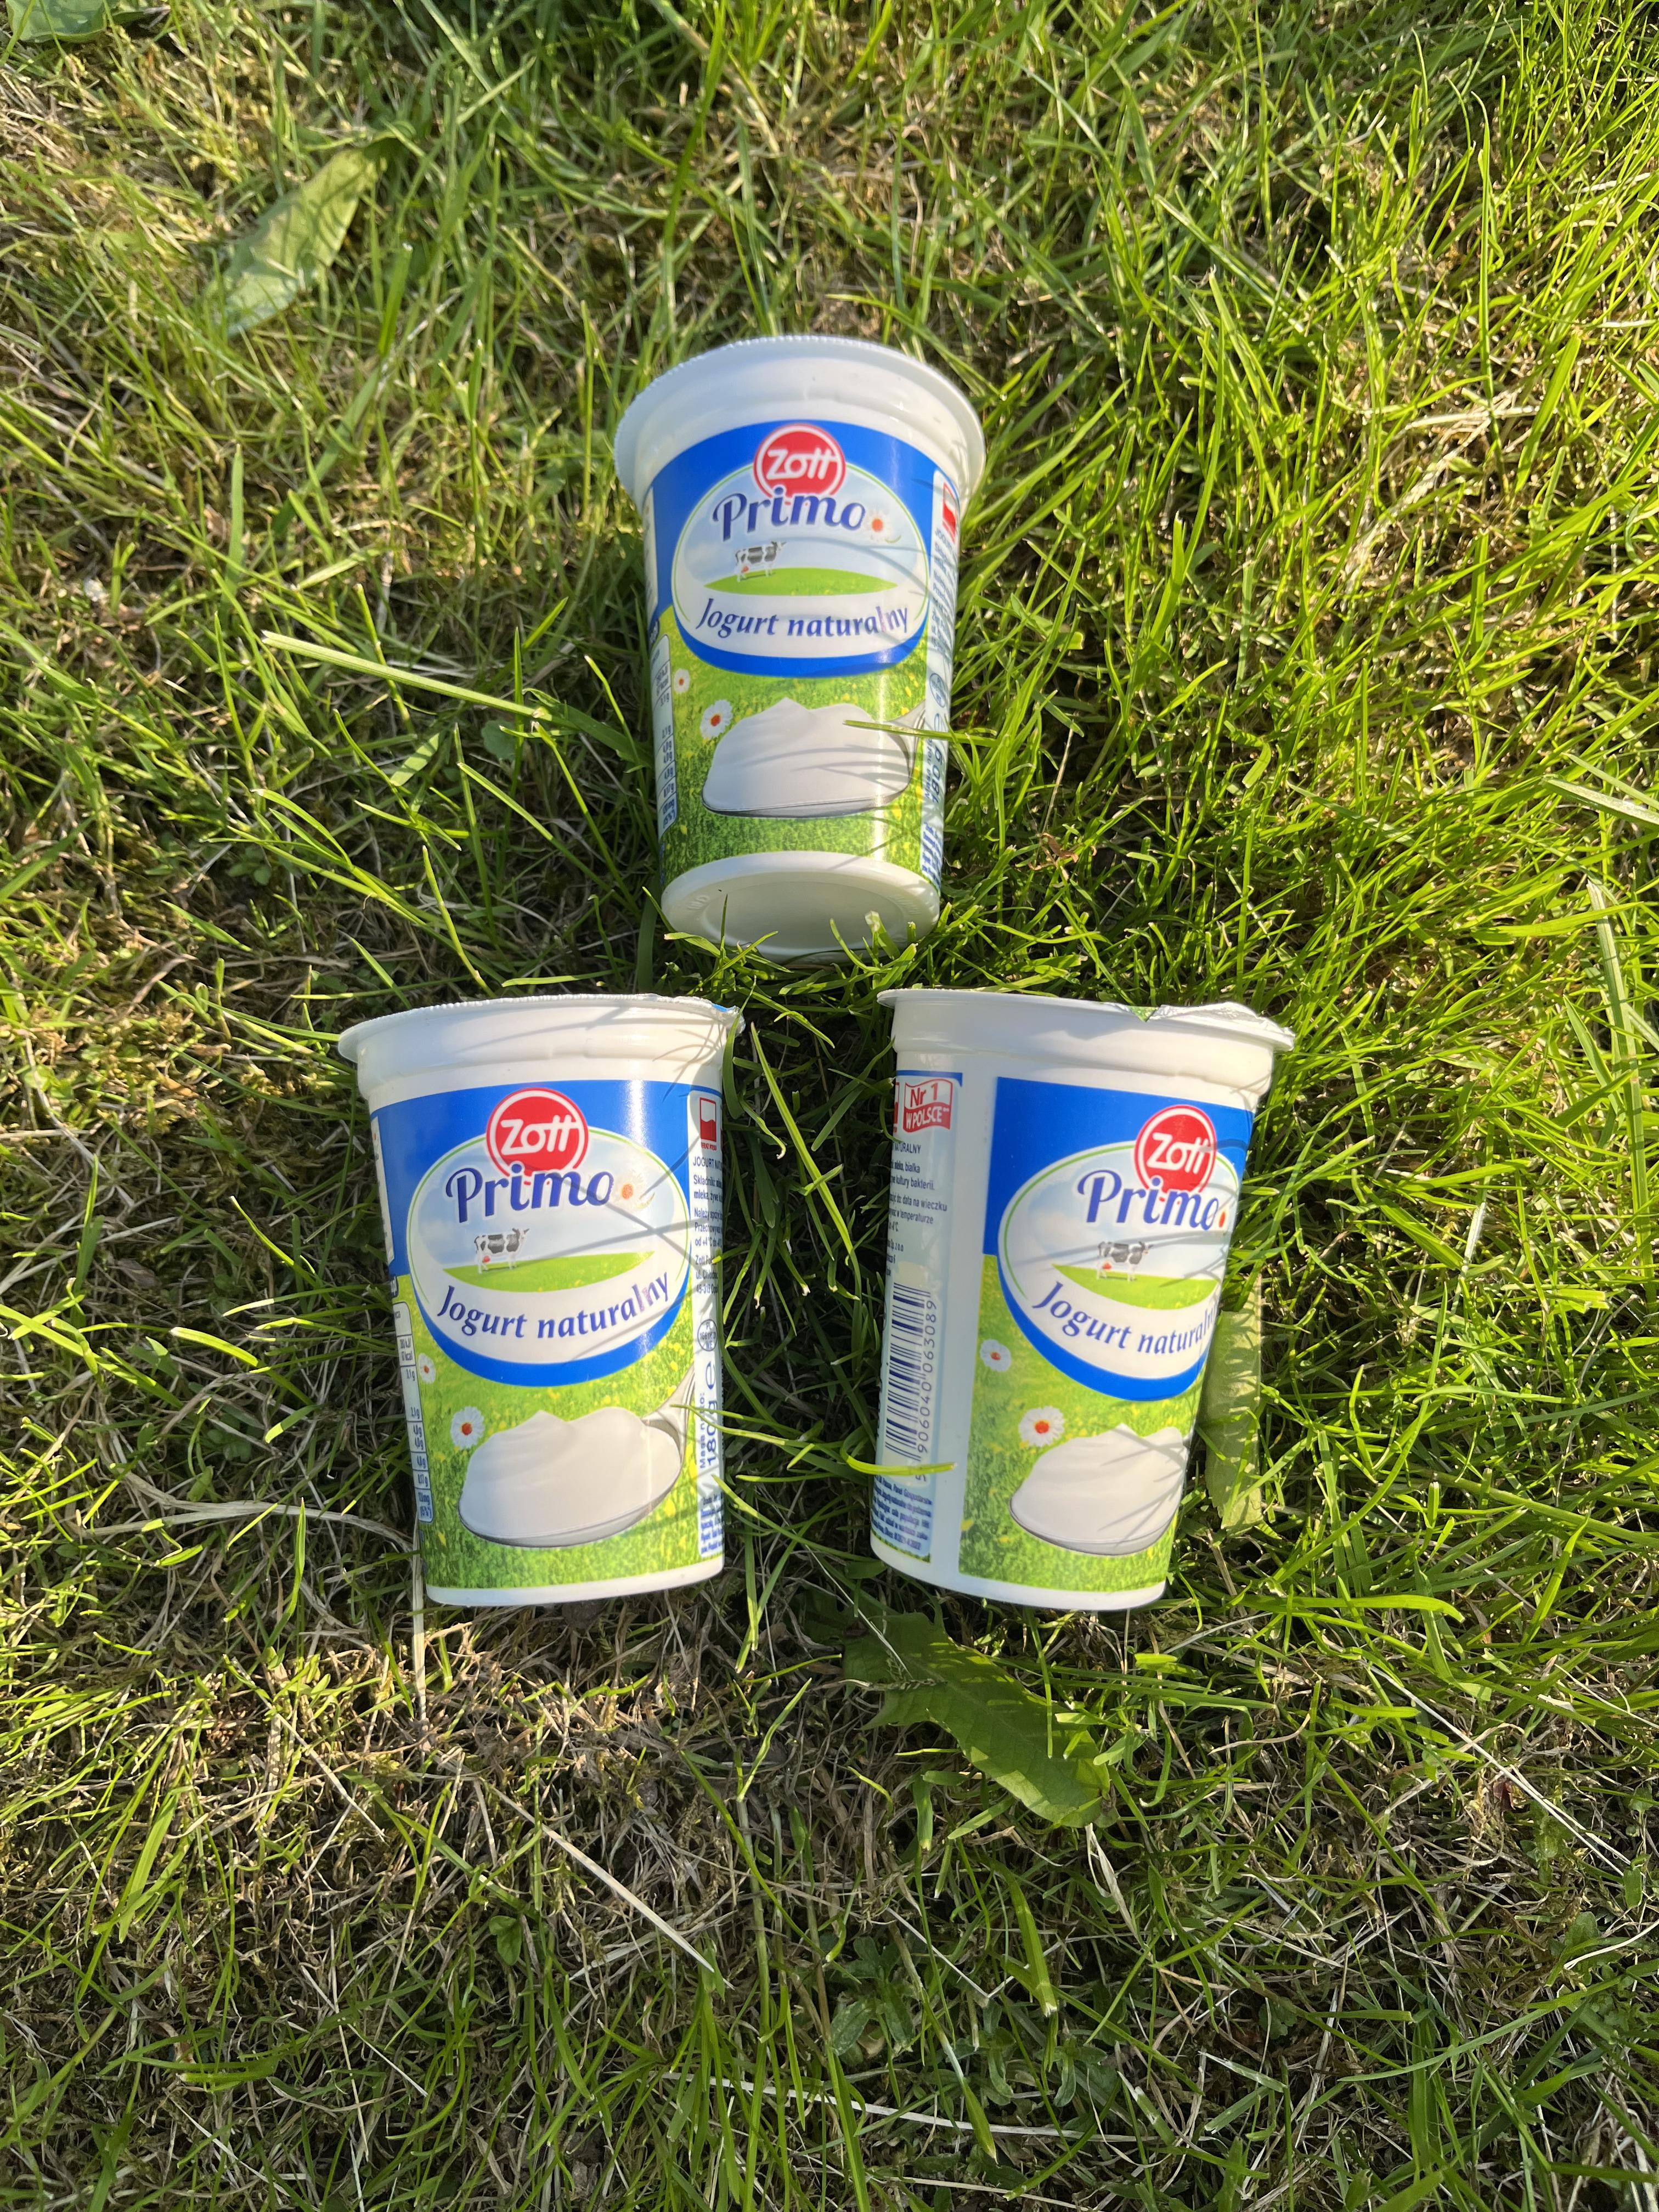Yogurt: (380, 1015, 739, 1601), (903, 989, 1209, 1594), (643, 362, 958, 900)
